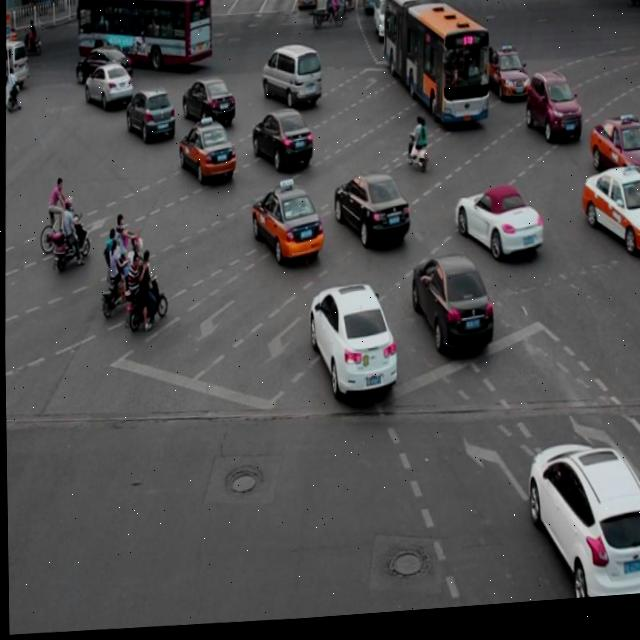car: (523, 441, 640, 610), (306, 282, 398, 401), (408, 253, 492, 361), (451, 187, 541, 266), (331, 173, 409, 253), (249, 184, 322, 267), (577, 171, 640, 265), (585, 120, 640, 198), (523, 74, 579, 150), (250, 108, 313, 175), (177, 116, 234, 185), (125, 86, 175, 146), (181, 76, 235, 130), (74, 44, 133, 86), (484, 52, 529, 107), (83, 60, 133, 109)
truck: (260, 45, 321, 112)
van: (380, 0, 489, 133), (76, 0, 212, 71)
